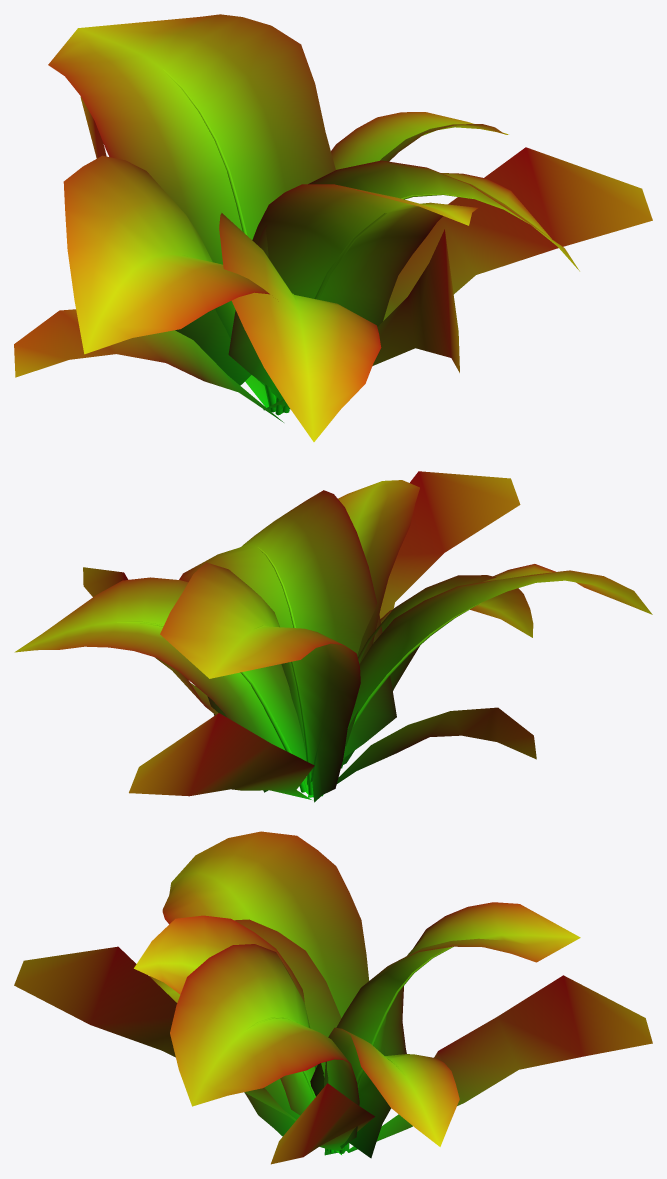
The model's file is Silver Lady Fern_LOD0_Var2_ubolejkia.fbx.
The picture shows the model from 3 angles, top to bottom: view 1: azimuth 30°, elevation 25°; view 2: azimuth 150°, elevation 25°; view 3: azimuth 270°, elevation 25°; orthographic projection. The views are drawn at different scales.
Parts seen in each view (by area): view 1: _abf5_Var2_LOD0; view 2: _abf5_Var2_LOD0; view 3: _abf5_Var2_LOD0.
Part boxes in pixels (x1,y1,x2,y2): _abf5_Var2_LOD0: [14, 14, 652, 441]; _abf5_Var2_LOD0: [14, 471, 652, 802]; _abf5_Var2_LOD0: [14, 831, 652, 1164].
Bounding box in the file's own units: 153 × 73.05 × 180.
